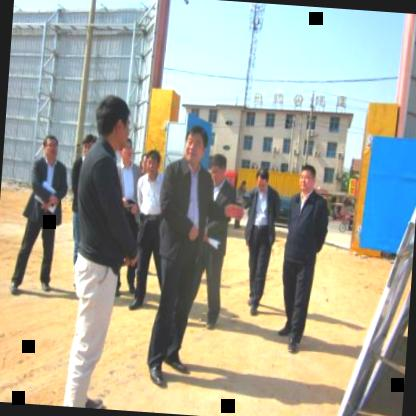head: (92, 93, 132, 157), (182, 118, 210, 172), (207, 148, 232, 190), (296, 161, 320, 199), (142, 146, 164, 184), (40, 130, 59, 163), (80, 132, 99, 162), (254, 166, 272, 194)
